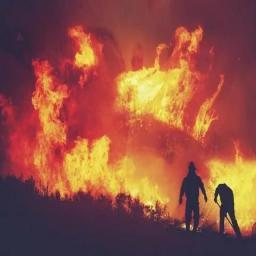Large fire: (1, 0, 256, 237)
